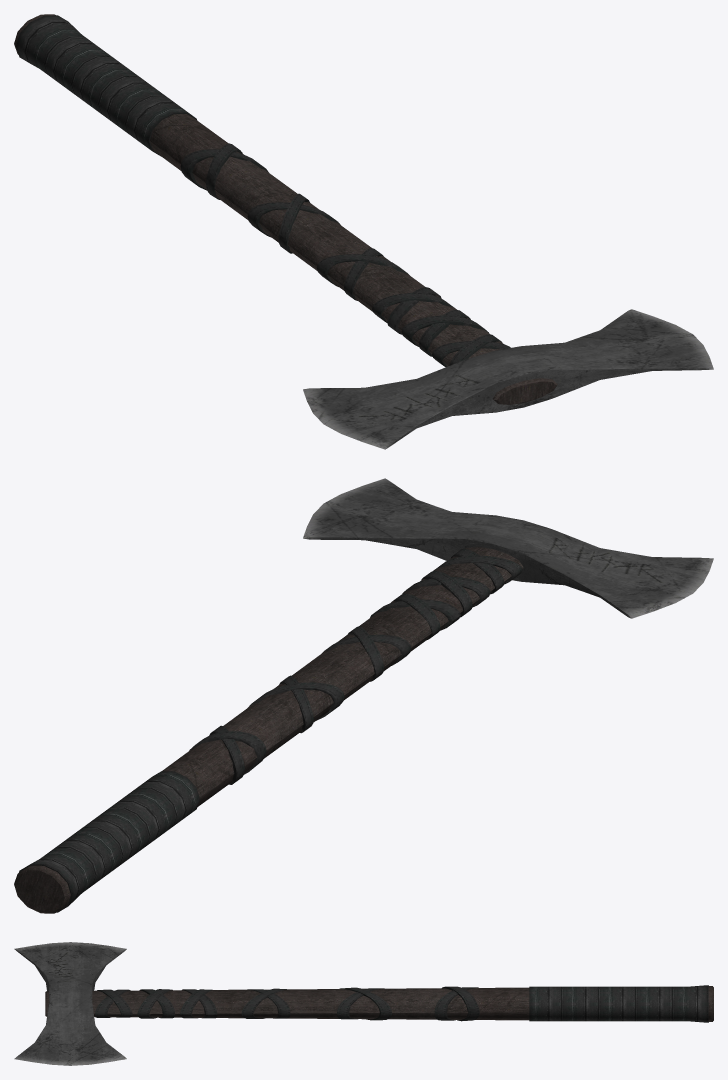
Rendered from Axe.fbx.
3 views of the same model, one above another, from view 1: azimuth 30°, elevation 25°; view 2: azimuth 150°, elevation 25°; view 3: azimuth 270°, elevation 25° (orthographic). The views are drawn at different scales.
Parts seen in each view (by area): view 1: Axe; view 2: Axe; view 3: Axe.
Part boxes in pixels (bbox=[...]): Axe: bbox=[14, 14, 713, 449]; Axe: bbox=[14, 478, 713, 913]; Axe: bbox=[14, 942, 713, 1065].
Bounding box in the file's own units: 26.31 × 3.24 × 62.86.
